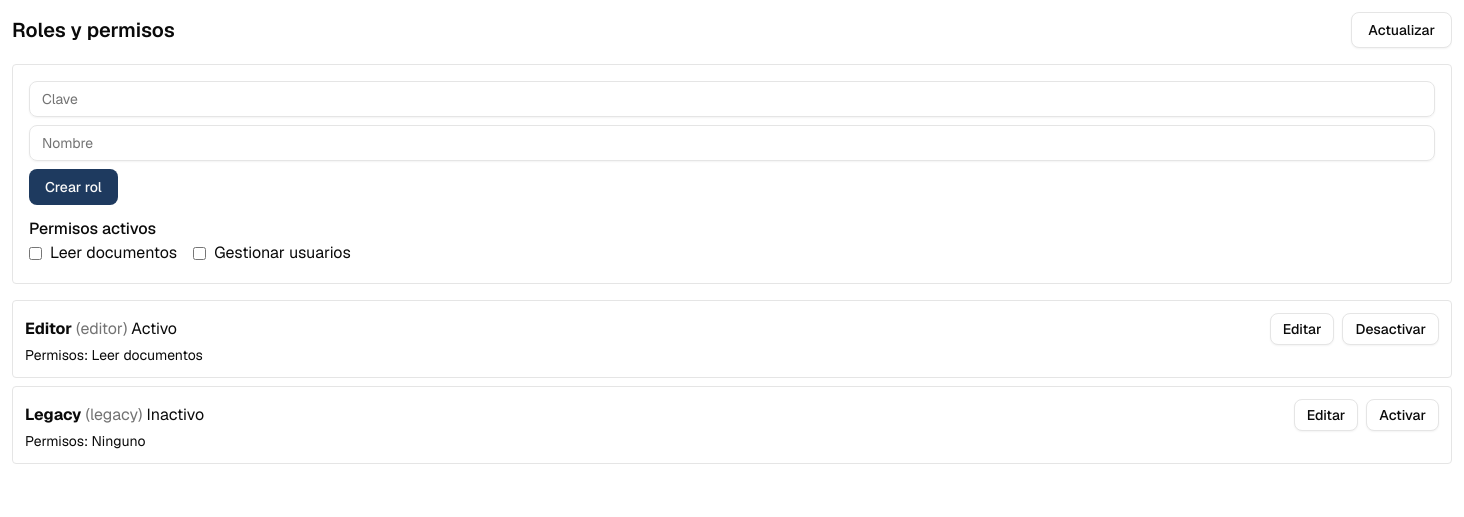
Scenario: RolesManagement › shows mutation errors and hides management controls without roles.manage
Expected: the text "Editor" is shown, [25, 318, 72, 338]
In the field named "Clave del rol": (732, 99) [29, 81, 1435, 117], type "x"
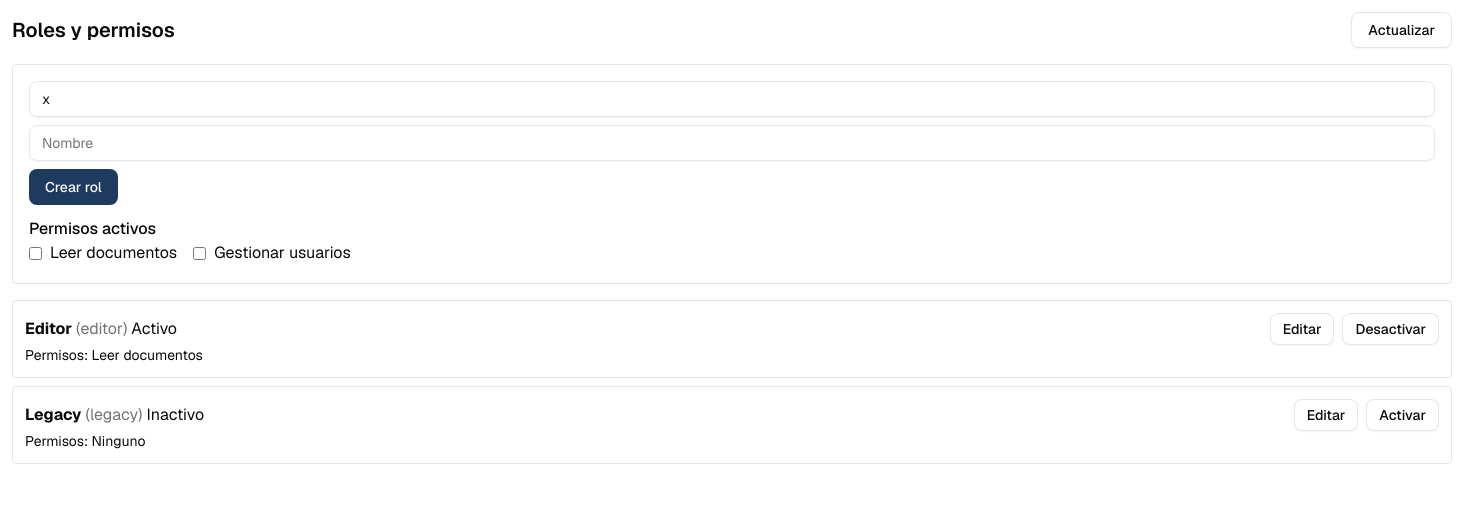
In the field named "Nombre del rol": (732, 143) [29, 125, 1435, 161], type "X"
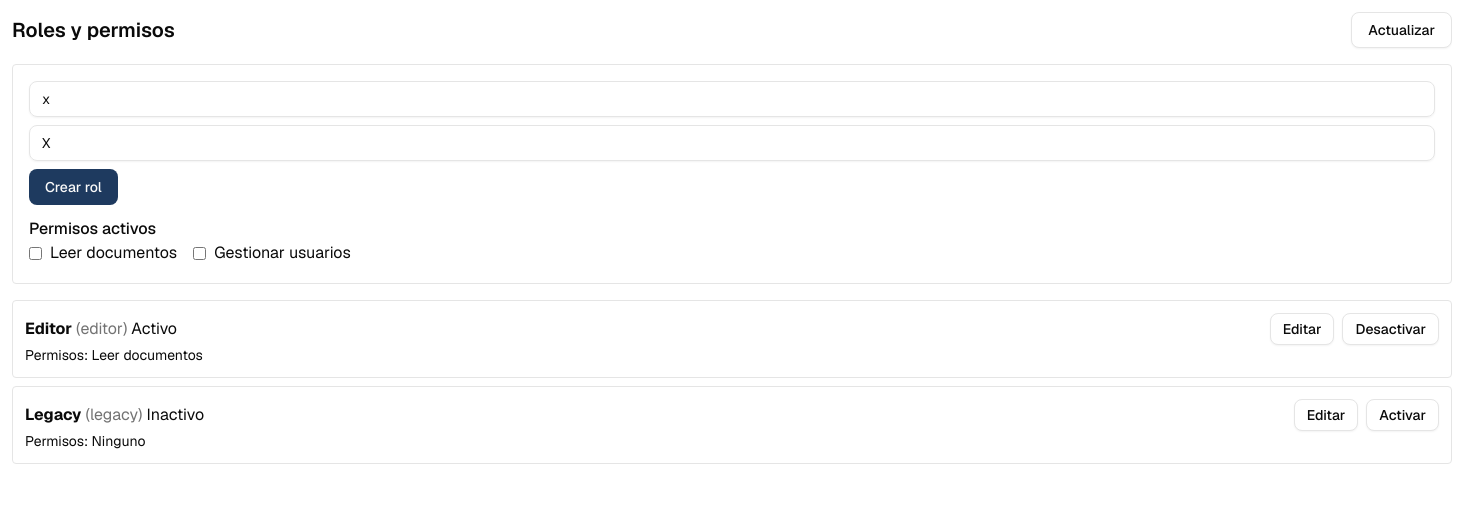
Click the button "Crear rol": (73, 187) [29, 169, 118, 205]
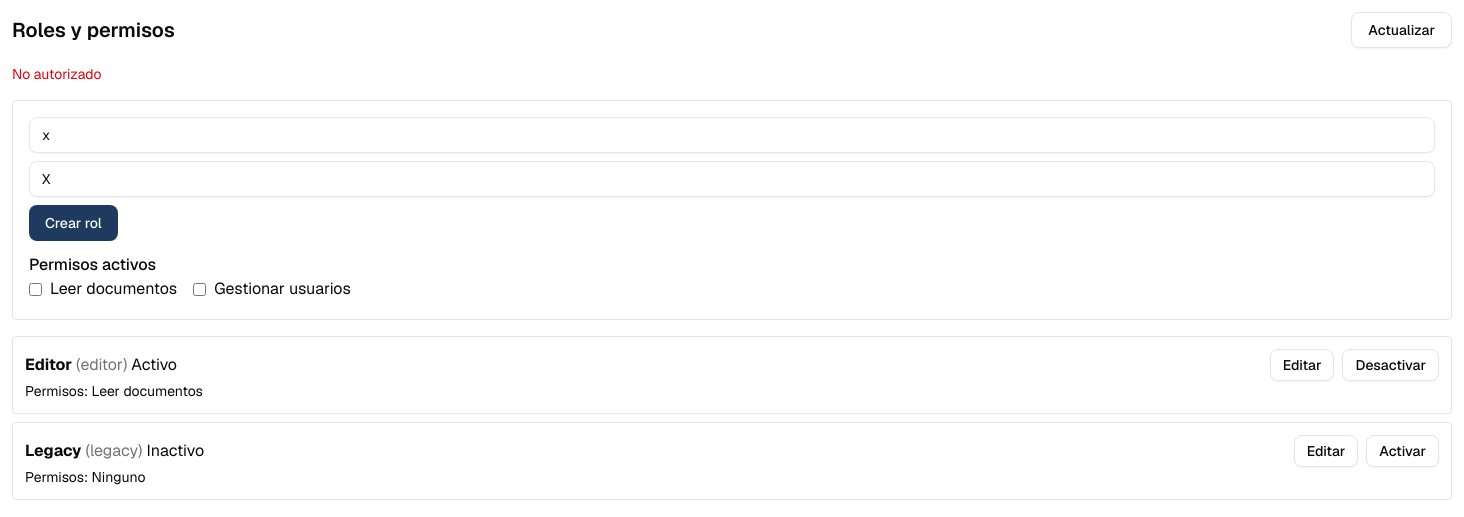
Now the message reads "No autorizado", box [12, 65, 102, 83]
